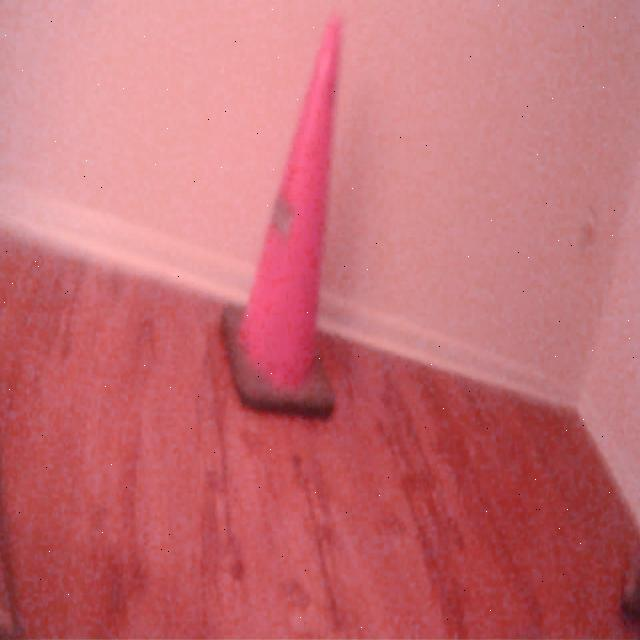traffic cone: (217, 9, 349, 429)
